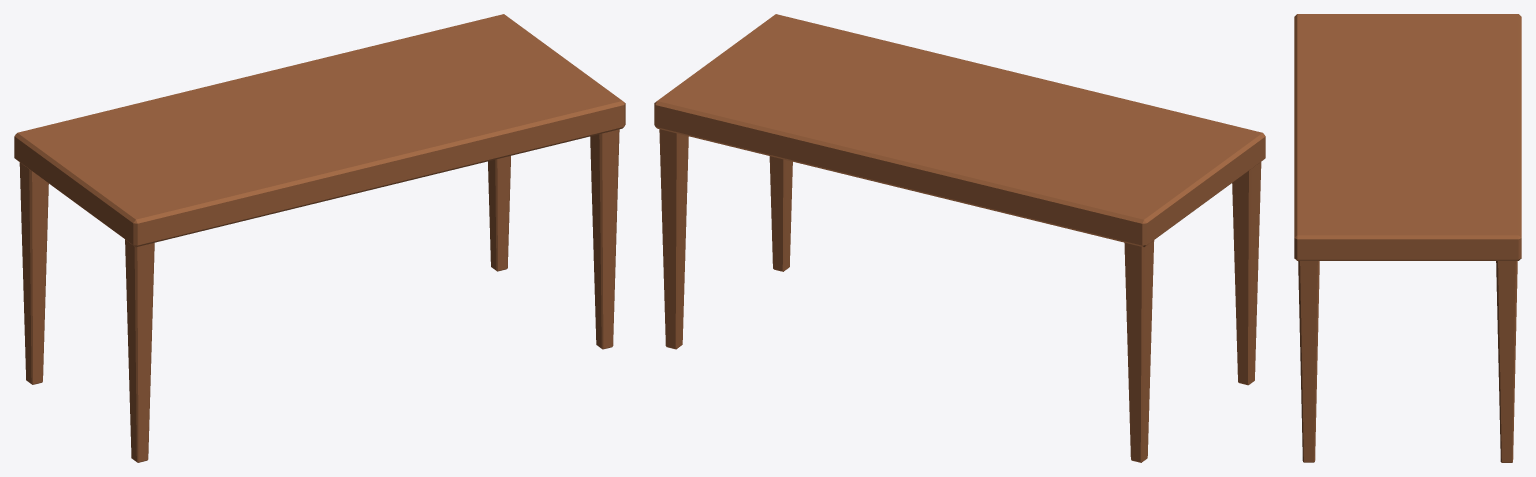
Rendered from Table.glb.
3 views of the same model, side by side, from view 1: azimuth 30°, elevation 25°; view 2: azimuth 150°, elevation 25°; view 3: azimuth 270°, elevation 25° (orthographic). The views are drawn at different scales.
Visible parts, largest first — view 1: Table A; view 2: Table A; view 3: Table A.
Boxes of the visible parts, x1,y1,x2,y2 form: Table A: (14, 14, 625, 462); Table A: (654, 14, 1265, 462); Table A: (1294, 14, 1521, 462).
Bounding box in the file's own units: 8.29 × 3.98 × 3.56.
